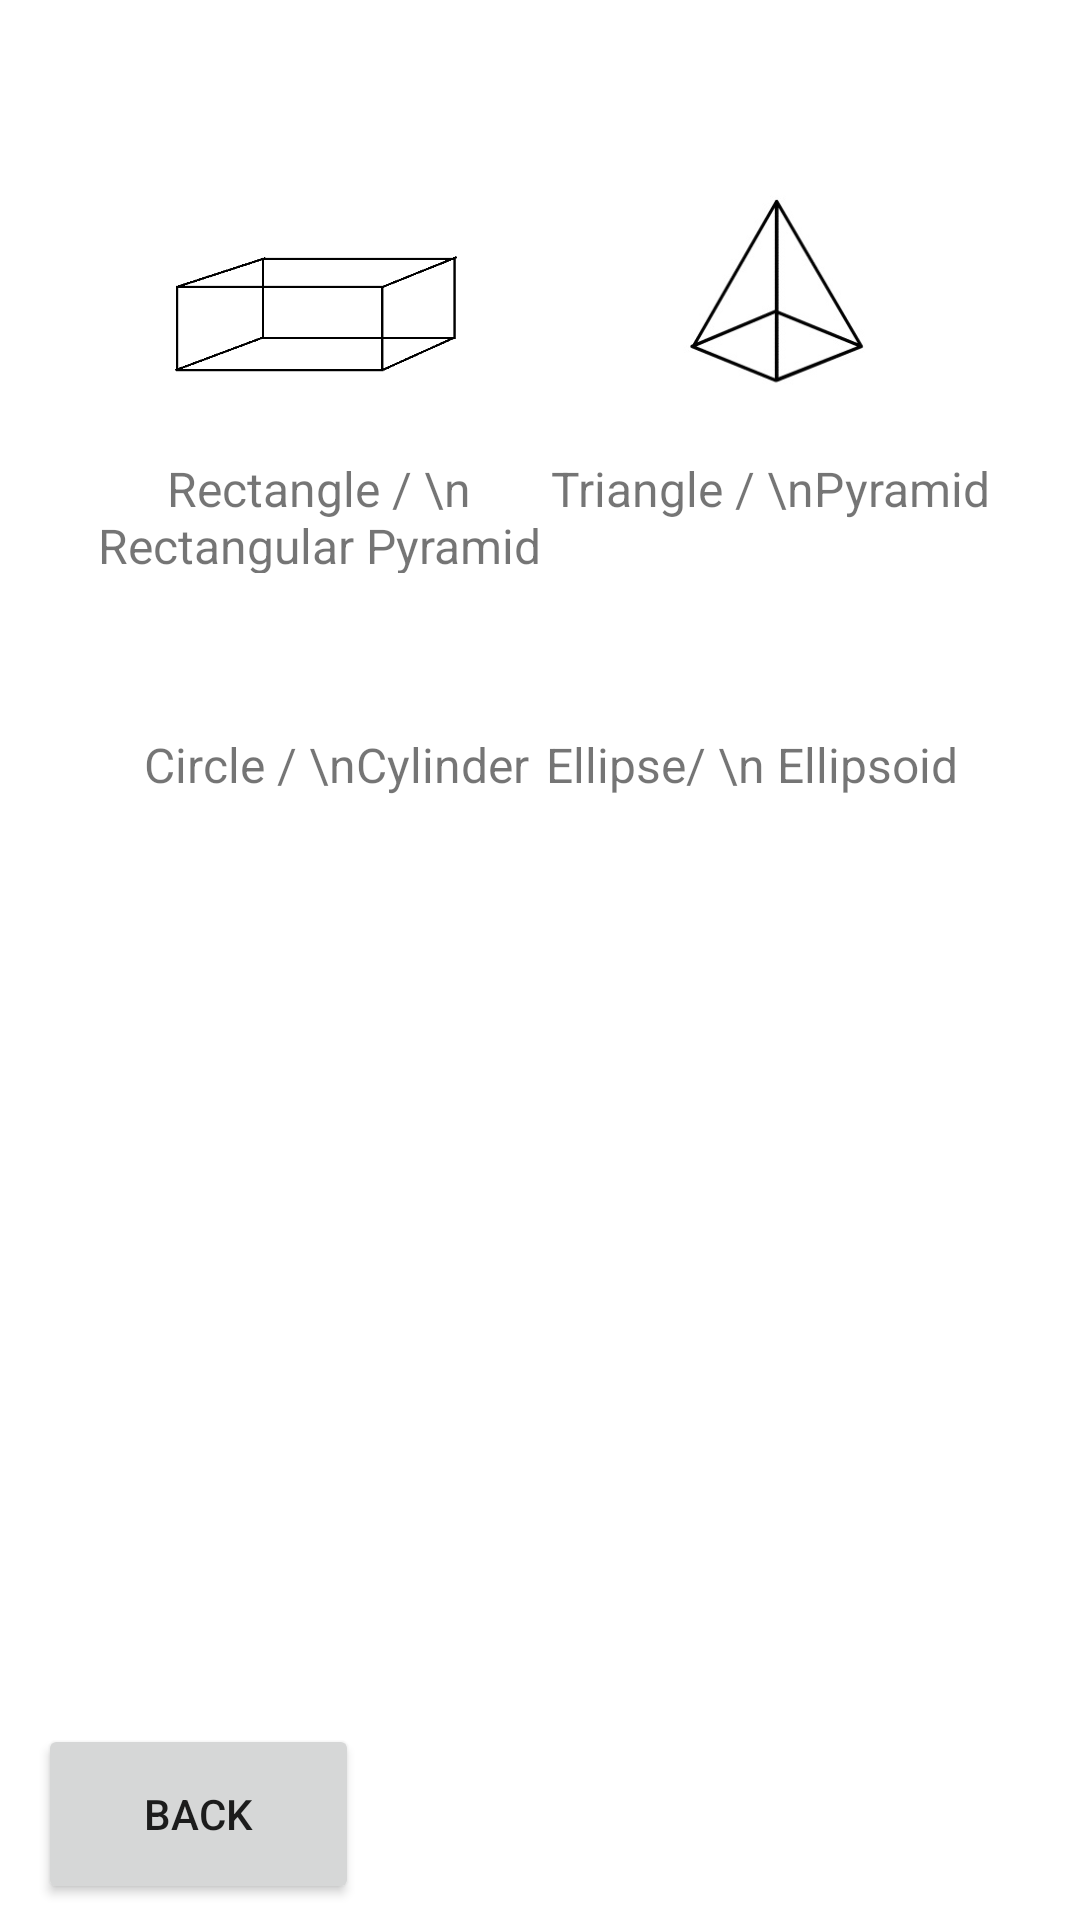

Where icons sit on this 1080w x 1920h app screen, as (x1, y1, x2, y2):
shape triangle: (690, 199, 863, 383)
